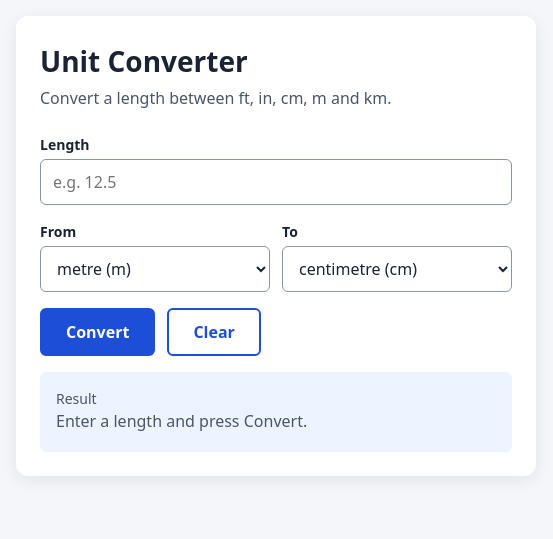
Scenario: S4: inline error messages › S4: input abc + Convert shows Please enter a valid number and no result
This screenshot has width=553, height=539.
Type "abc" into the field labelled "Length" at [276, 182], box [40,159,512,205]
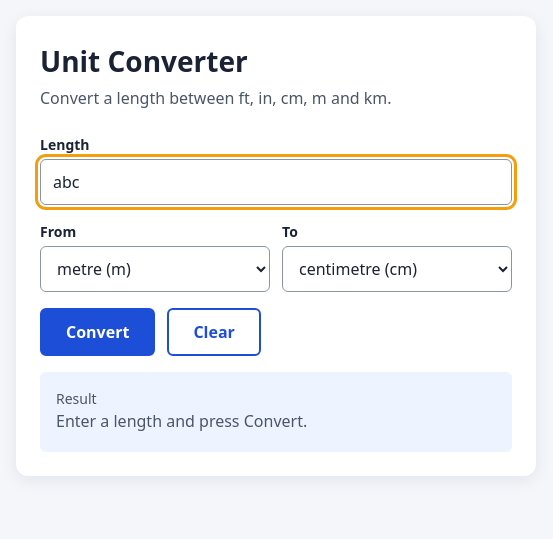
Select "metre (m)" in the dropdown labelled "From" at [155, 269], box [40,246,270,292]
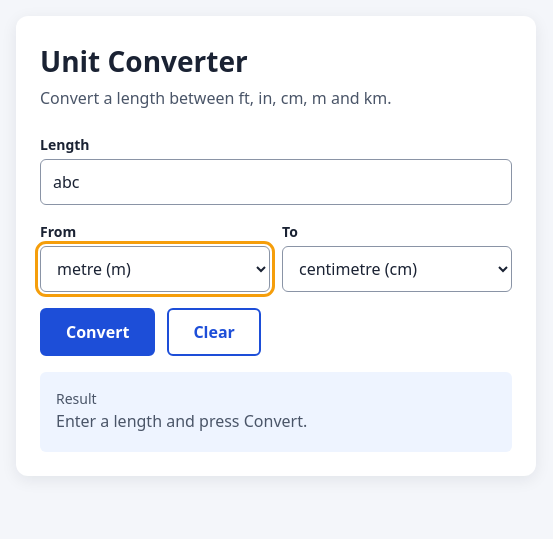
Select "centimetre (cm)" in the dropdown labelled "To" at [397, 269], box [282,246,512,292]
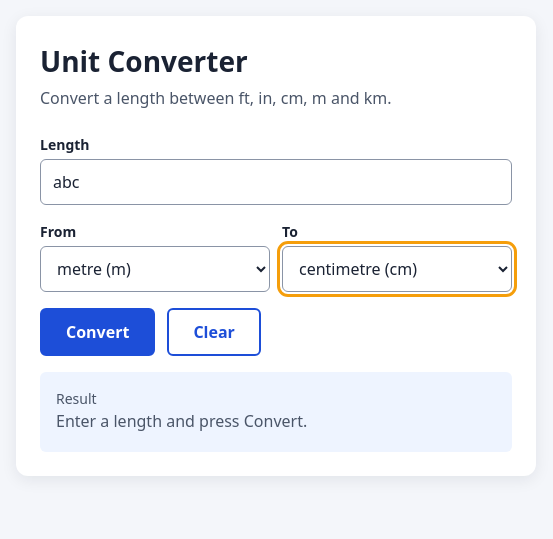
Click the button "Convert" at [98, 332], box [40,308,155,356]
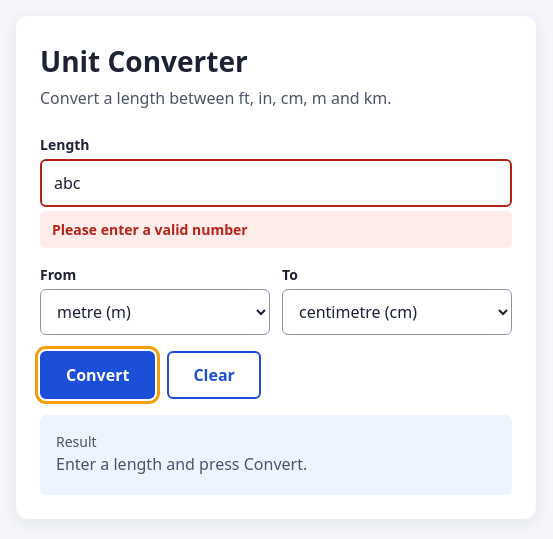
Now the message reads "Please enter a valid number", box [52,220,248,239]
